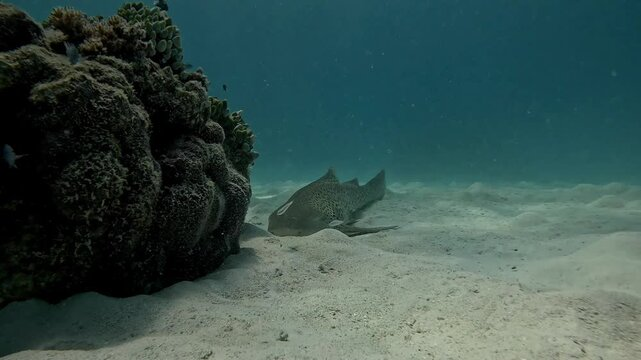Leopard Shark: (265, 149, 434, 273)
